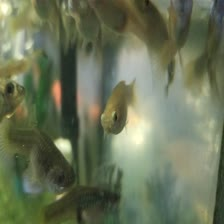Guppy: (4, 122, 77, 194), (97, 72, 139, 134)
